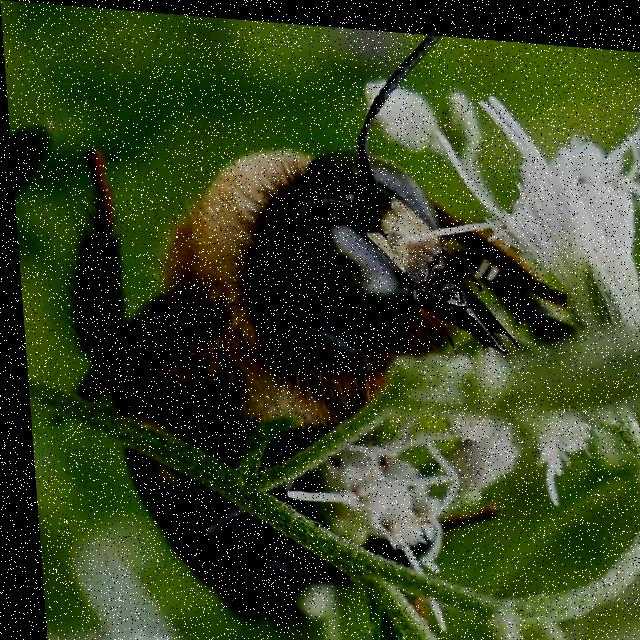Xylocopa: (17, 2, 597, 640)
